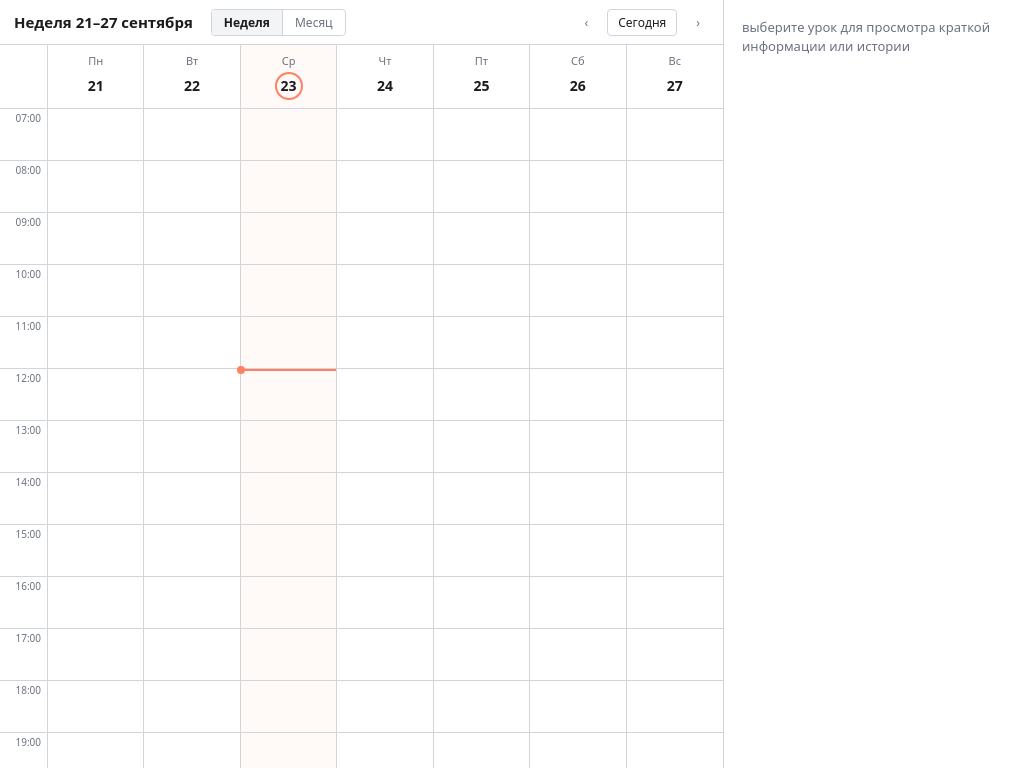
Scenario: CalendarHome empty chrome › month toolbar prev/next and Сегодня navigate months
The image size is (1024, 768).
Click the button with class "seg-btn" showing "Месяц" at coordinates (314, 22), box x1=283 y1=10 x2=345 y2=34
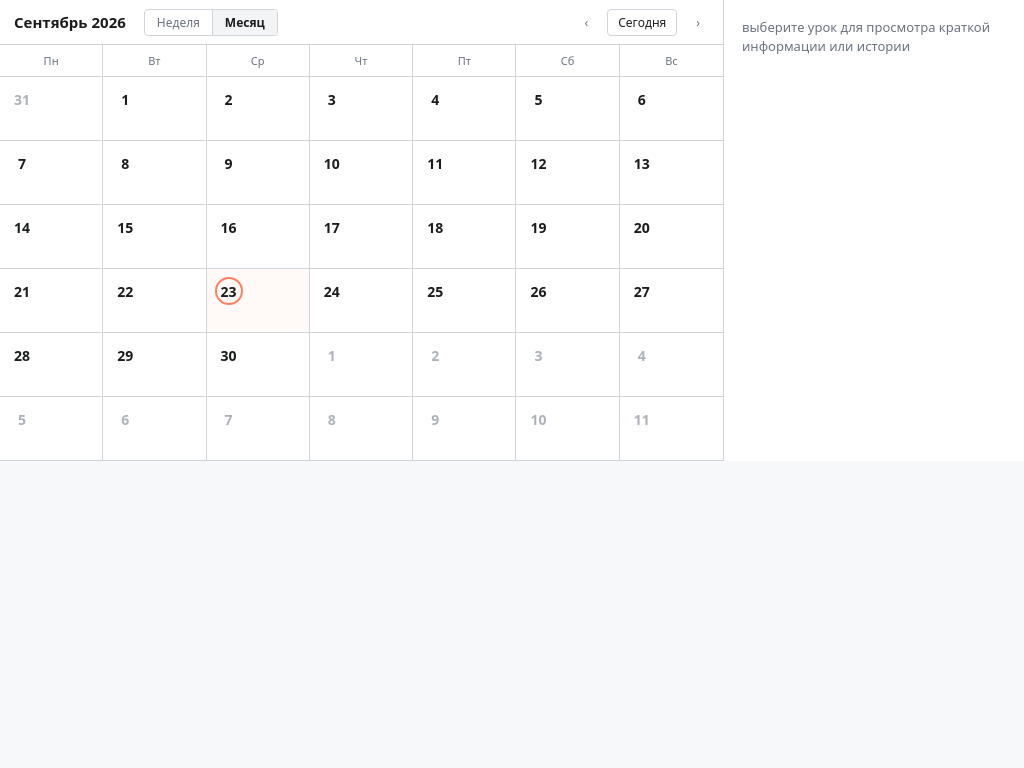
Now the heading with class "range-title" reads "Сентябрь 2026", box x1=14 y1=12 x2=126 y2=32
Click the button named "Вперёд" at coordinates (698, 22), box x1=687 y1=8 x2=709 y2=36
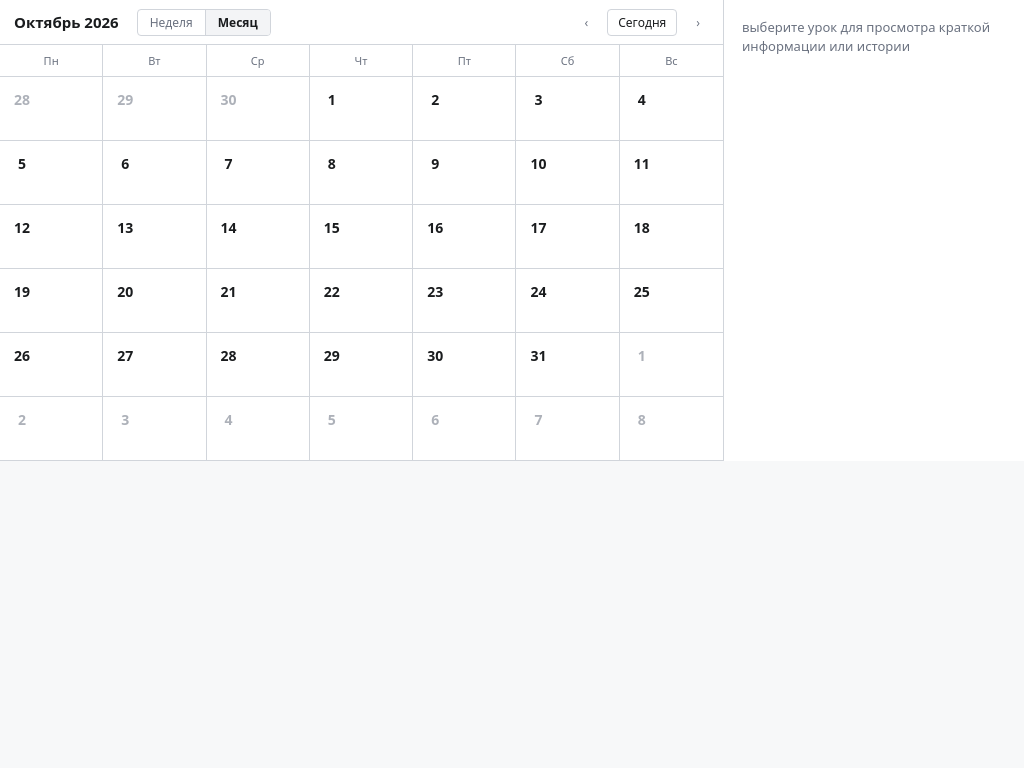
Now the heading with class "range-title" reads "Октябрь 2026", box x1=14 y1=12 x2=119 y2=32
Click the button with class "today-btn" at coordinates (642, 22), box x1=607 y1=8 x2=677 y2=36
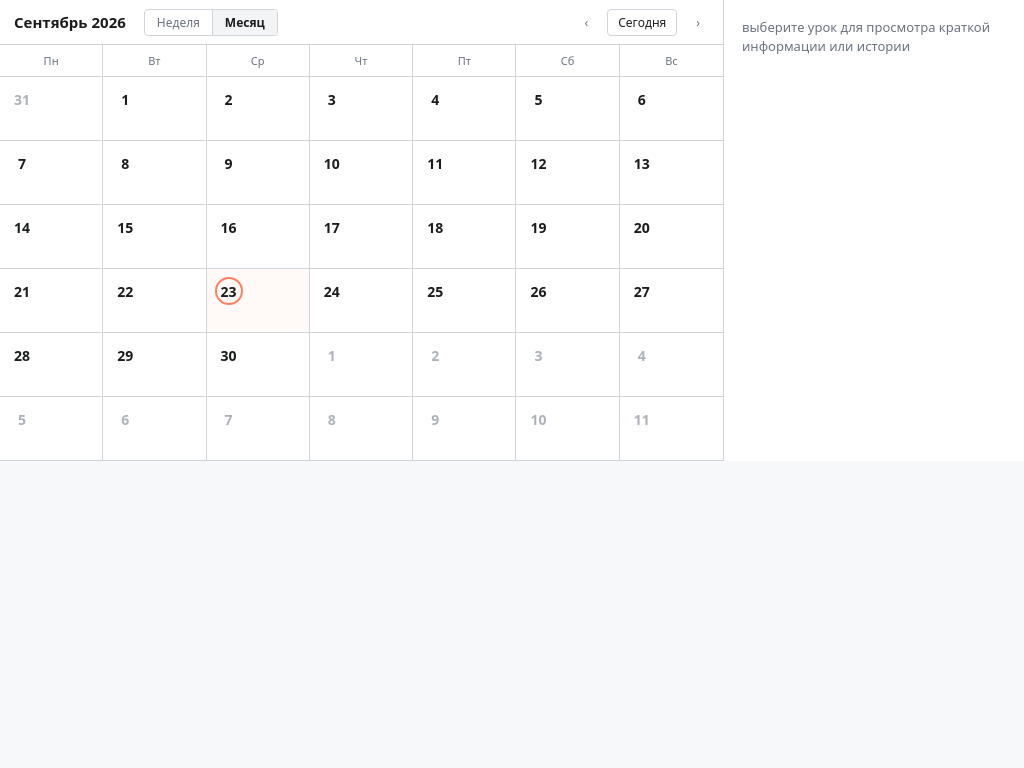
Now the heading with class "range-title" reads "Сентябрь 2026", box x1=14 y1=12 x2=126 y2=32
